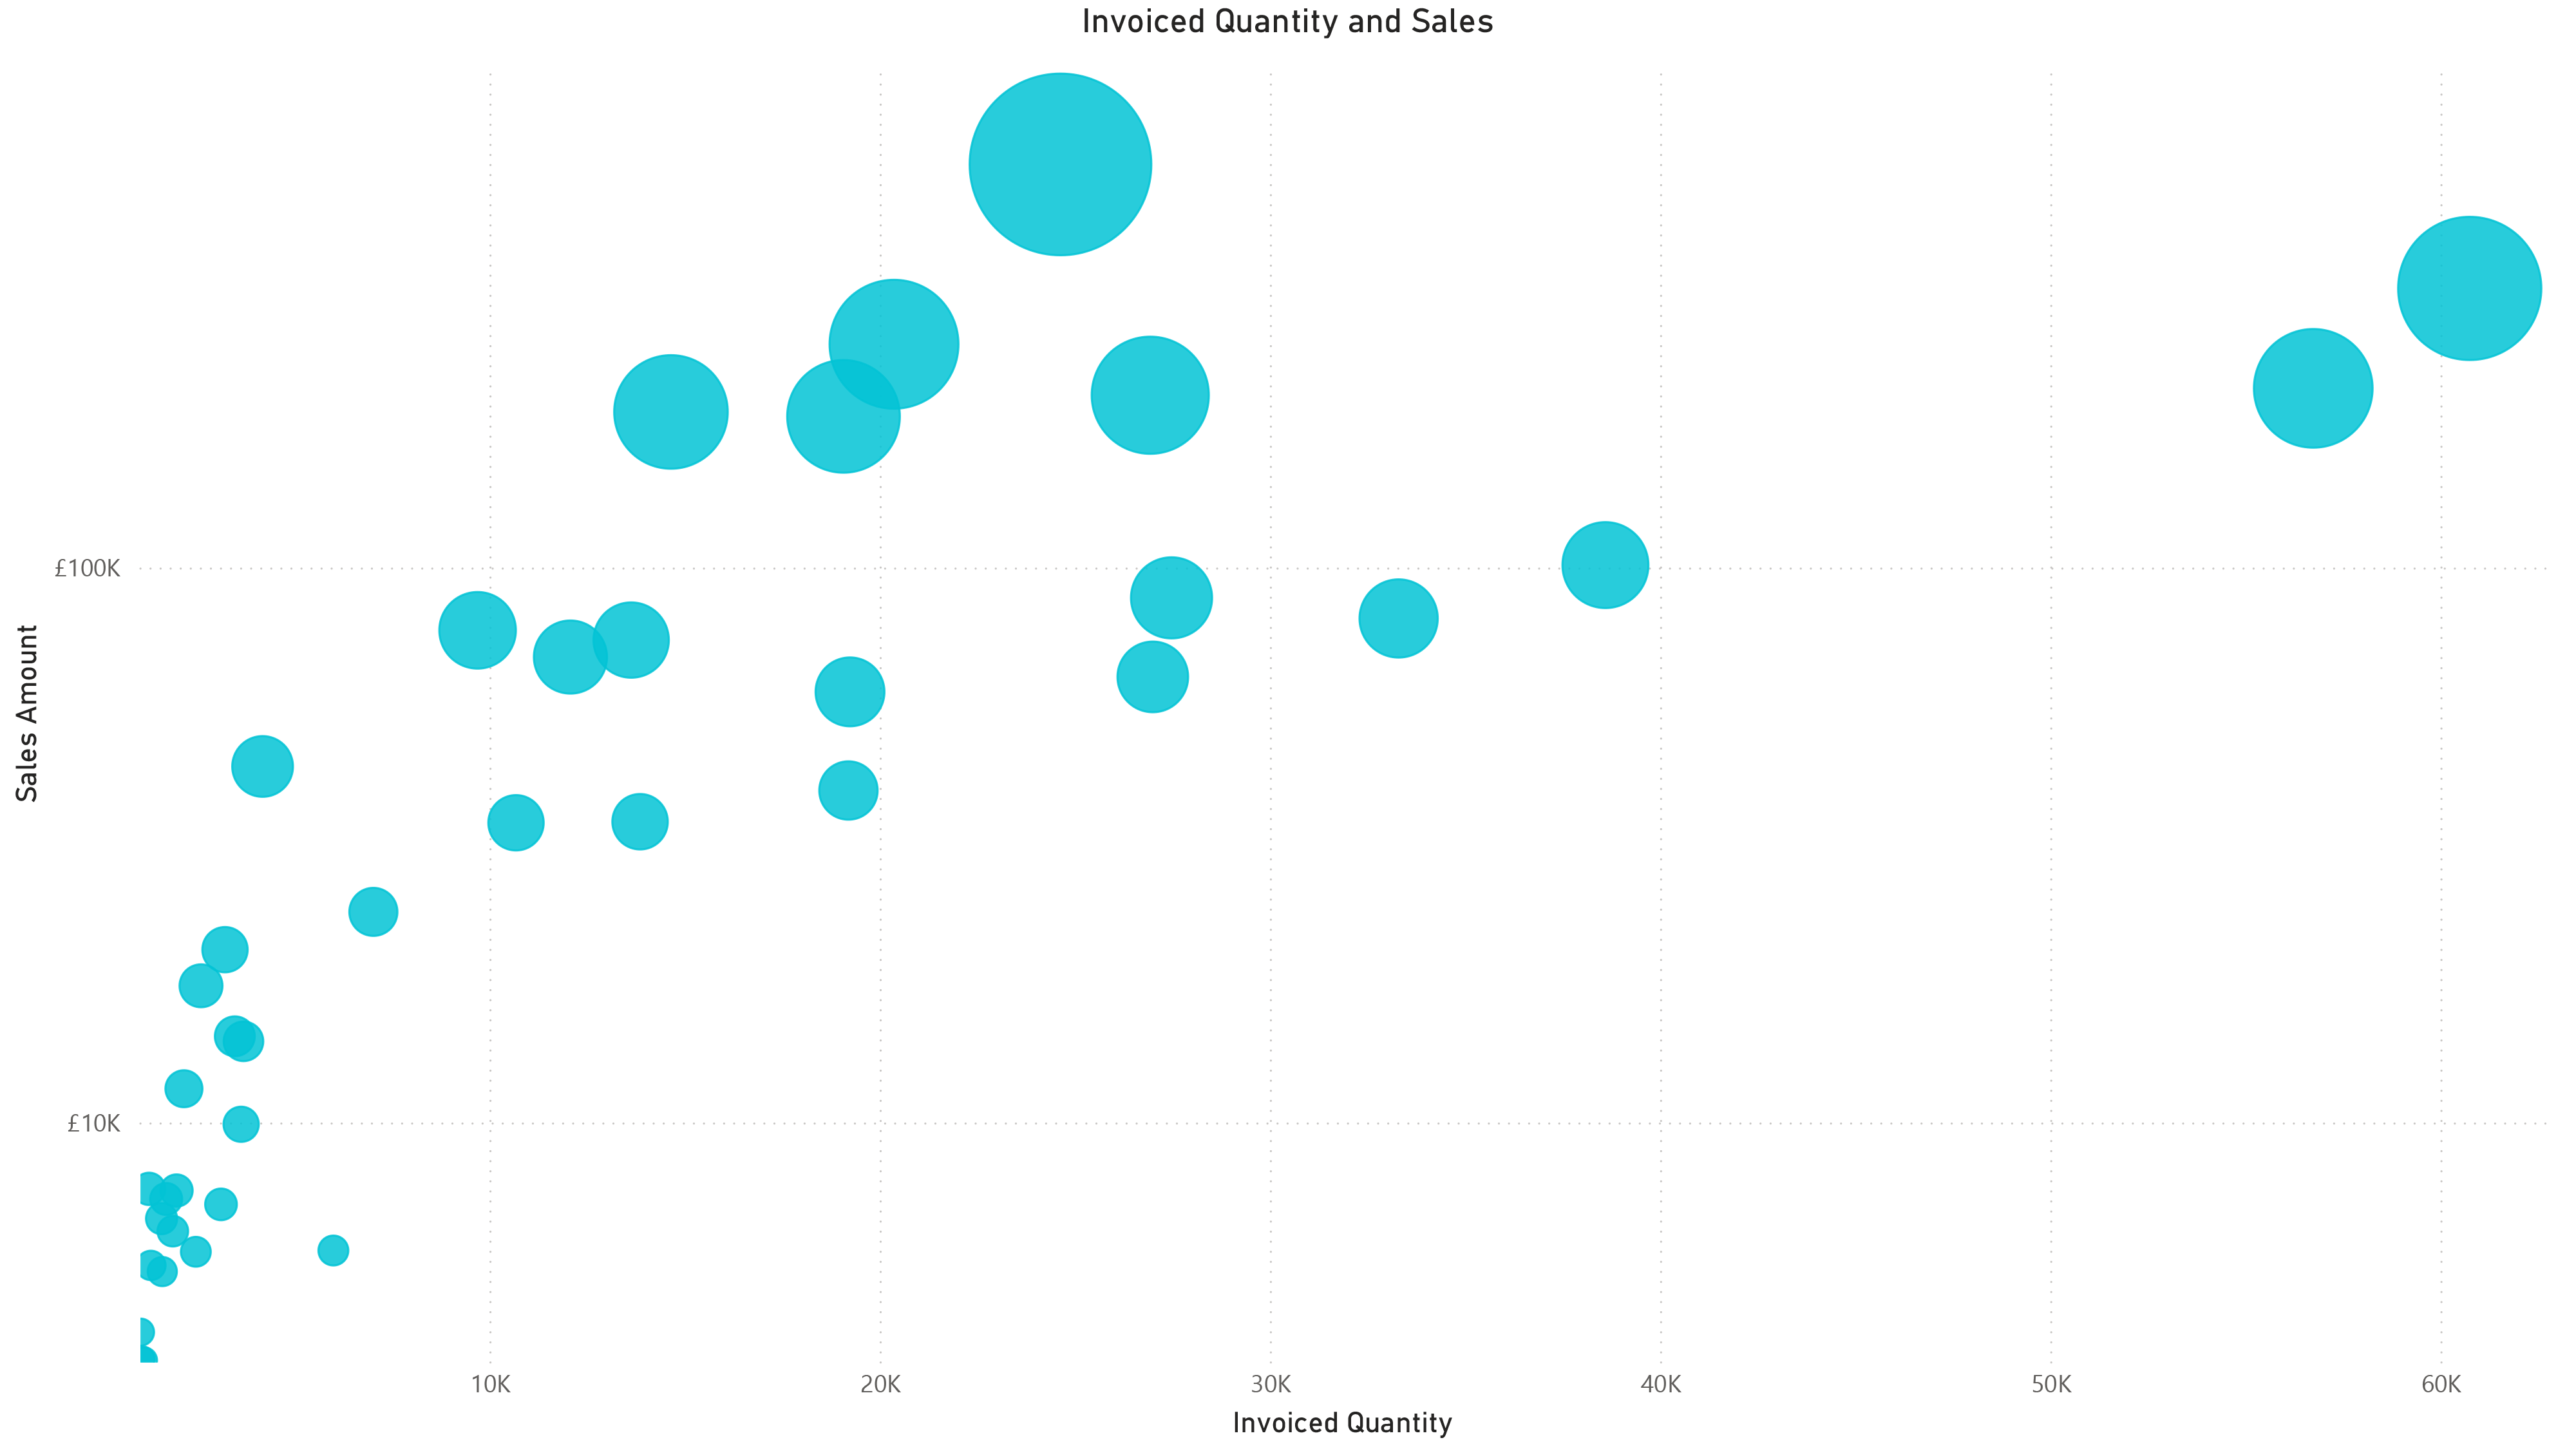

Layout of this report page (visuals, bound fields, positions):
{"tool":"powerbi","page":{"name":"Invoiced Quantity and Sales Bubble Plot","canvas":[1280,720],"ordinal":4},"visuals":[{"type":"scatterChart","title":"Invoiced Quantity and Sales","fields":{"Y":["Sum(DATA DUMP.Sales Amount (Actual))"],"Category":["DATA DUMP.Invoiced Quantity"],"X":["Avg(DATA DUMP.Invoiced Quantity)"],"Size":["Sum(DATA DUMP.Sales Amount (Actual))"]},"box":[0,0,1280,720],"z":0}]}

Visuals, with their boxes in screenshot pixels (x1, y1, x2, y2), scaled from the page's 1280x720 canvas onto the 2576x1449 screenshot:
"Invoiced Quantity and Sales" scatterChart: [0,0,2575,1448]
